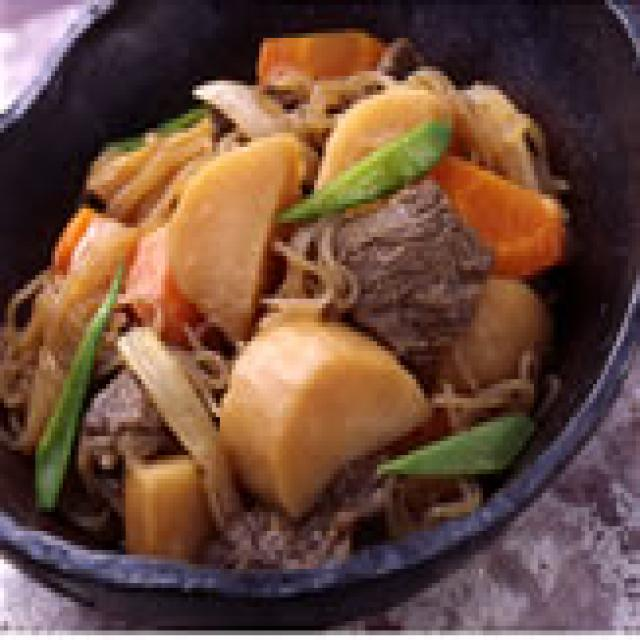牛肉菜式: (0, 0, 640, 602)
